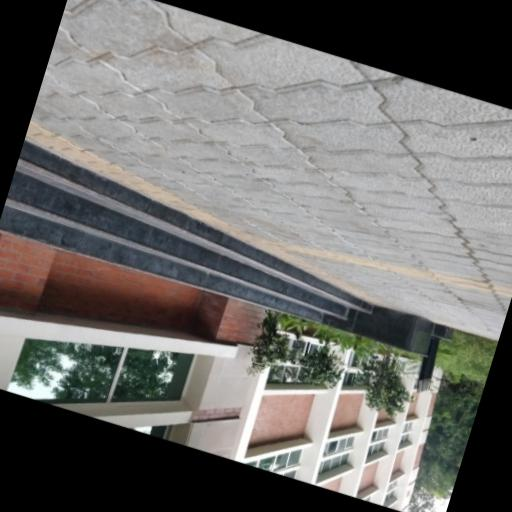stairs: (0, 140, 372, 322)
